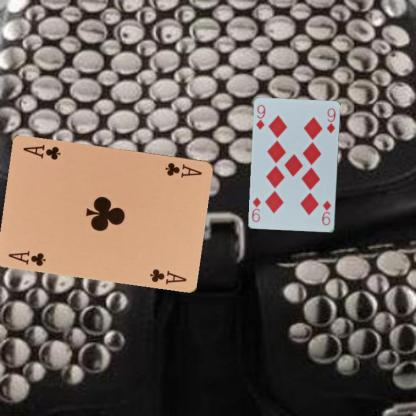9d: (319, 198, 333, 227), (254, 102, 266, 131)
Ac: (162, 160, 204, 179), (6, 248, 47, 267)
